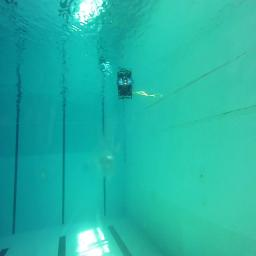front: (118, 80, 133, 100)
